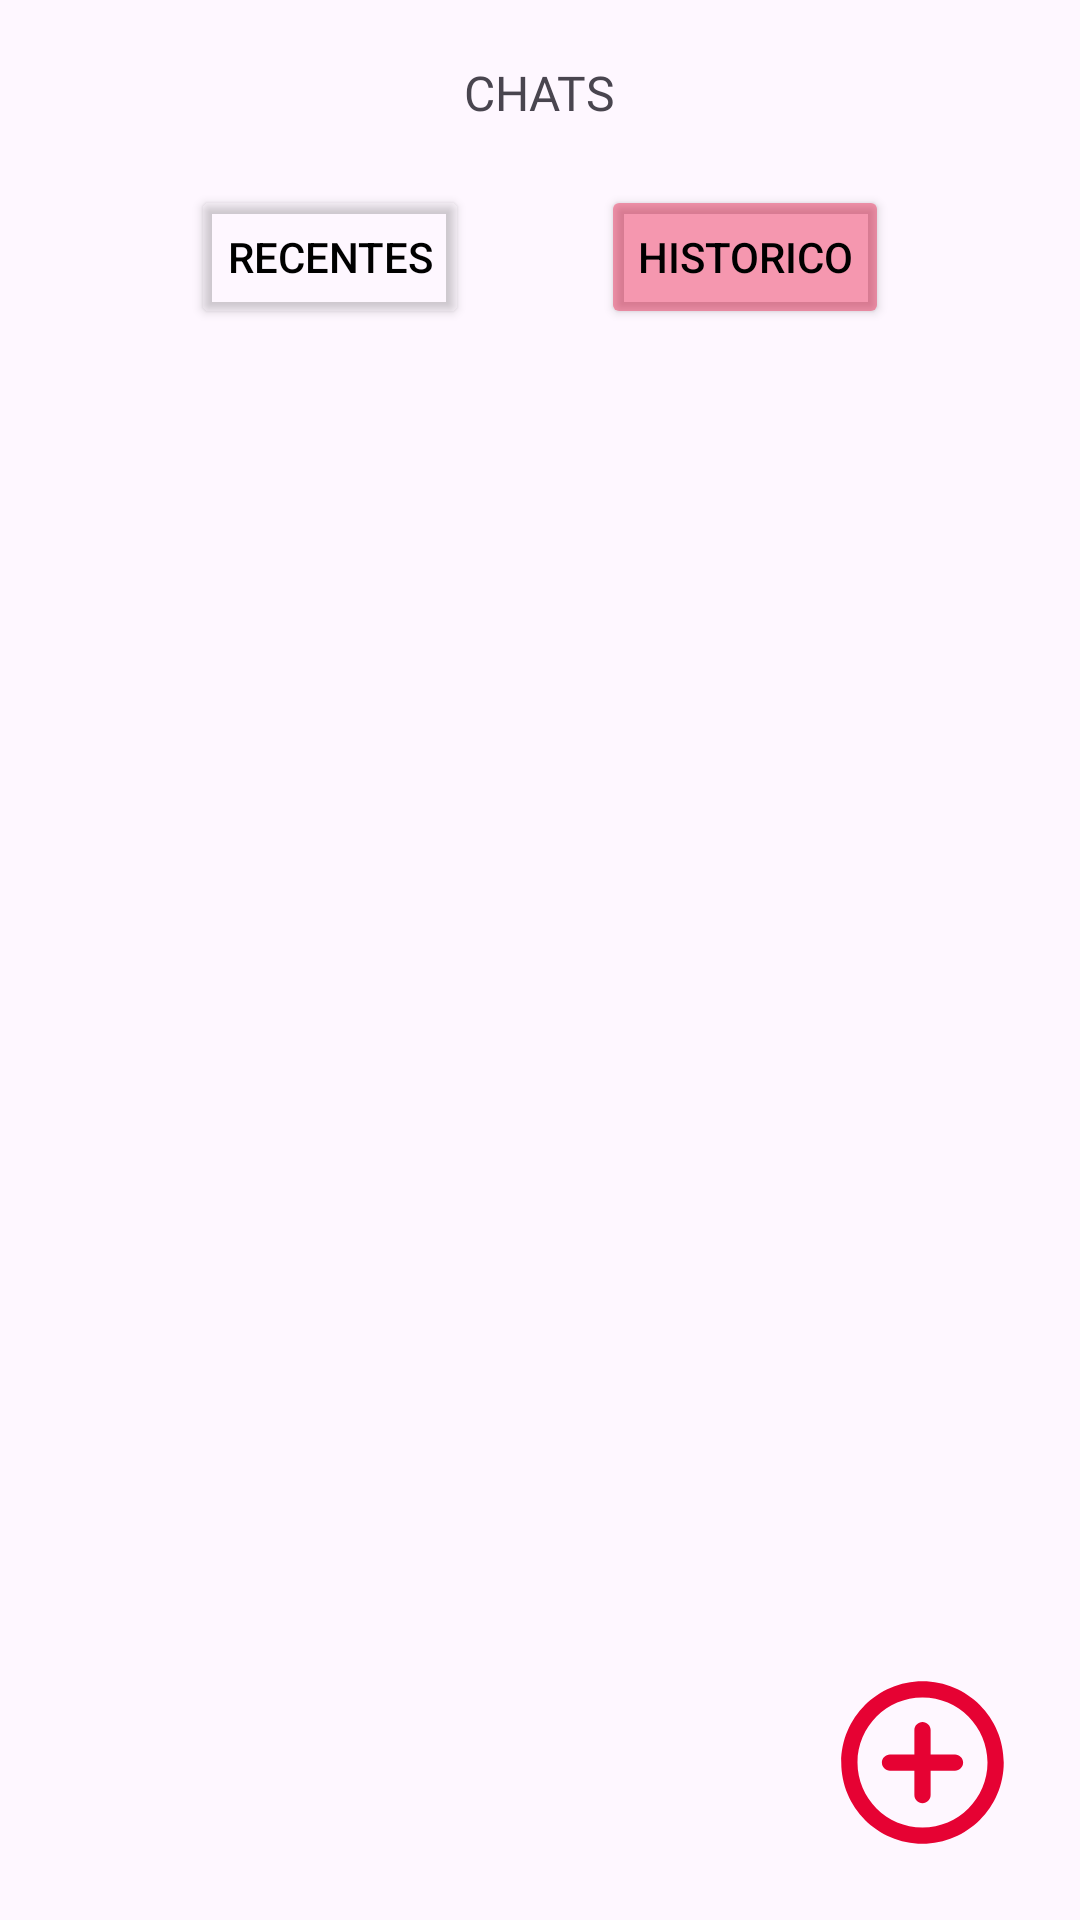

Locate icon controls on the screen. Image size 1080*1920, boxes as (x1, y1, x2, y2).
add: (841, 1681, 1004, 1844)
